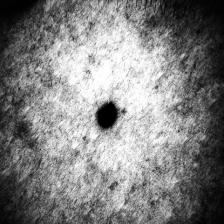Benign Marking or Mole: (98, 102, 118, 128)
